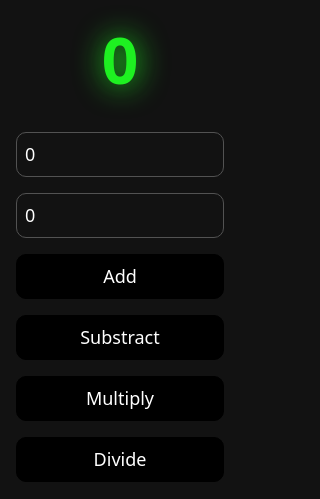
it: Calculator › adds to number
Replace the text in the number field with test id "Num1" with "2". click: (120, 154)
box: x1=16 y1=132 x2=224 y2=177
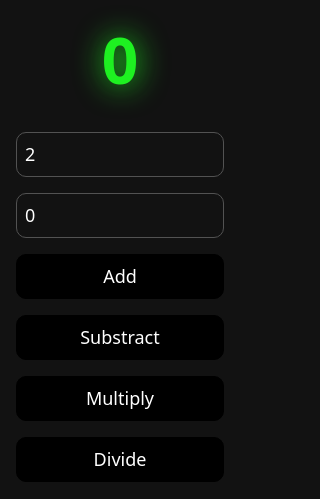
Replace the text in the number field with test id "Num2" with "4". click: (120, 216)
box: x1=16 y1=193 x2=224 y2=238
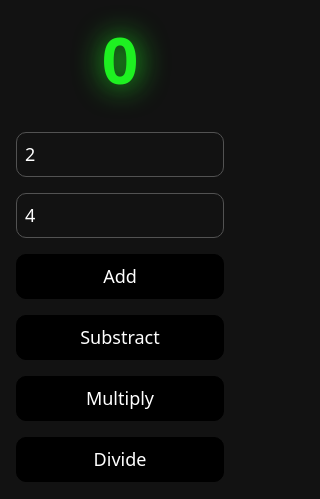
Click the button with test id "Substract". click: (120, 338)
box: x1=16 y1=315 x2=224 y2=360
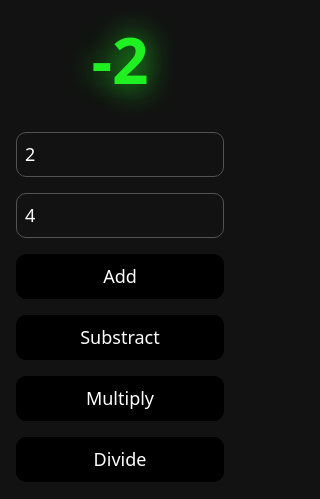
Now the heading with test id "result" reads "-2", box x1=91 y1=16 x2=149 y2=103
